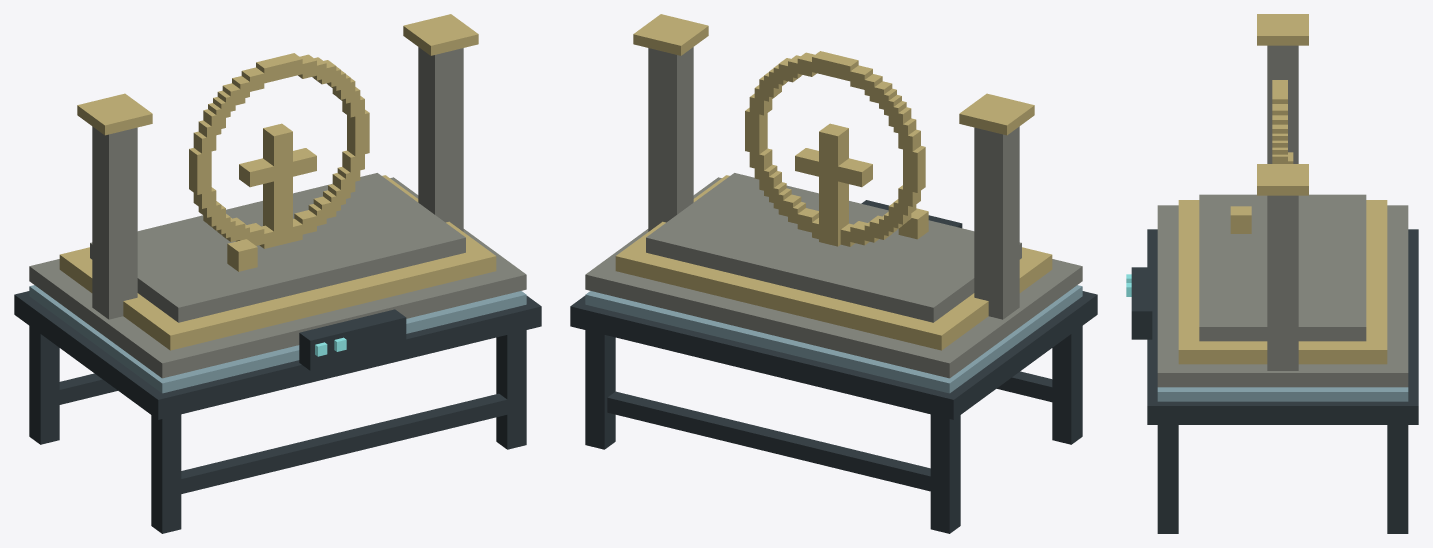
Rendered from sanctity_station_t7.glb.
The picture shows the model from 3 angles, left to right: view 1: azimuth 30°, elevation 25°; view 2: azimuth 150°, elevation 25°; view 3: azimuth 270°, elevation 25°; orthographic projection. The views are drawn at different scales.
Parts seen in each view (by area): view 1: sanctity_station_t7/work_surface, sanctity_station_t7/reliquary, sanctity_station_t7/frame; view 2: sanctity_station_t7/work_surface, sanctity_station_t7/reliquary, sanctity_station_t7/frame; view 3: sanctity_station_t7/work_surface, sanctity_station_t7/frame, sanctity_station_t7/reliquary.
Part boxes in pixels (x1,y1,x2,y2): sanctity_station_t7/work_surface: (29, 173, 526, 393); sanctity_station_t7/reliquary: (77, 14, 478, 319); sanctity_station_t7/frame: (14, 291, 541, 533); sanctity_station_t7/work_surface: (585, 173, 1082, 393); sanctity_station_t7/reliquary: (633, 14, 1034, 319); sanctity_station_t7/frame: (570, 291, 1097, 533); sanctity_station_t7/work_surface: (1126, 194, 1408, 401); sanctity_station_t7/frame: (1147, 229, 1418, 533); sanctity_station_t7/reliquary: (1230, 14, 1308, 370).
Size of the model in its own units: 2.5 by 2.38 by 1.75.
